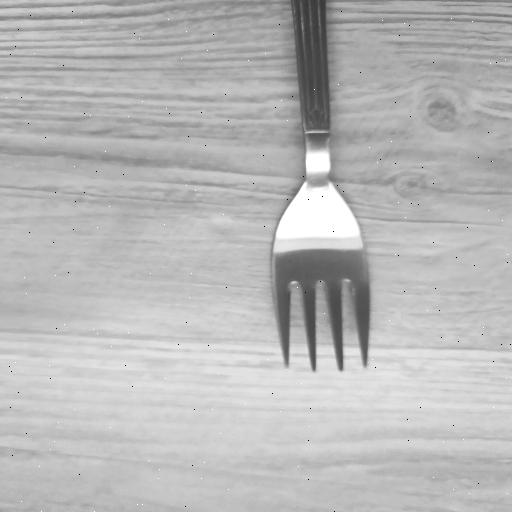fork: (280, 0, 370, 375)
